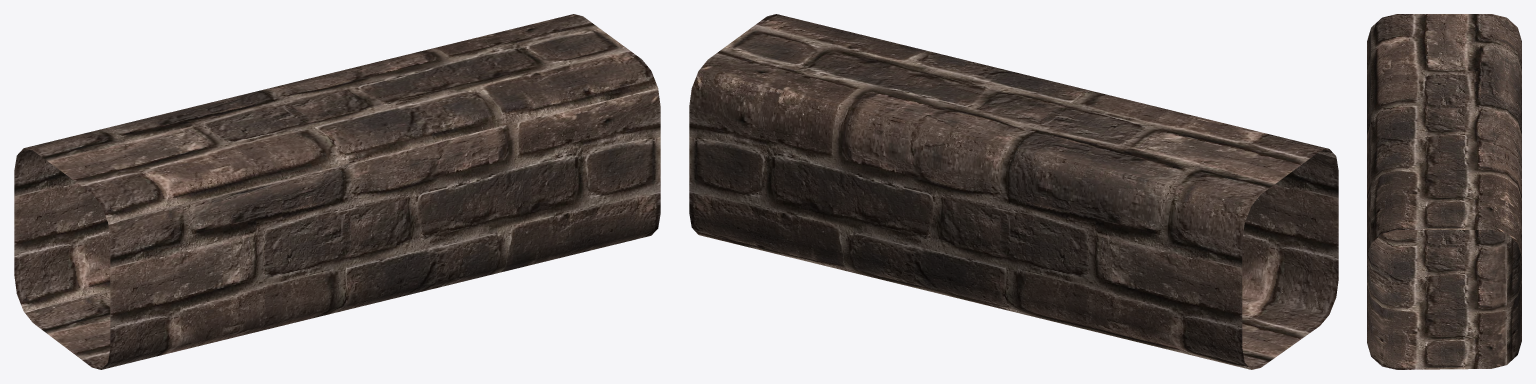
File: balka.fbx
The picture shows the model from 3 angles, left to right: view 1: azimuth 30°, elevation 25°; view 2: azimuth 150°, elevation 25°; view 3: azimuth 270°, elevation 25°; orthographic projection. The views are drawn at different scales.
Parts seen in each view (by area): view 1: Plane; view 2: Plane; view 3: Plane.
Boxes of the visible parts, x1,y1,x2,y2 form: Plane: (14,14,660,369); Plane: (689,14,1338,369); Plane: (1367,14,1521,369).
Bounding box in the file's own units: 200 × 60.53 × 60.38.
